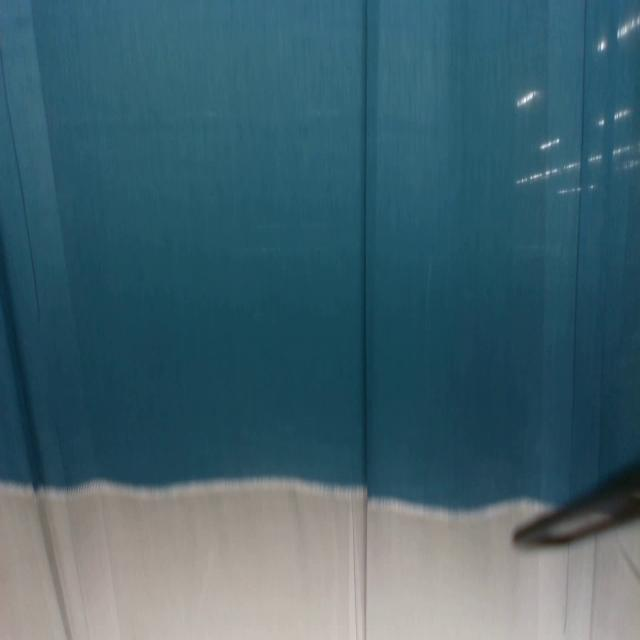crease: (0, 44, 45, 319), (567, 0, 591, 494), (361, 0, 374, 640), (586, 535, 602, 640), (561, 545, 574, 640)
